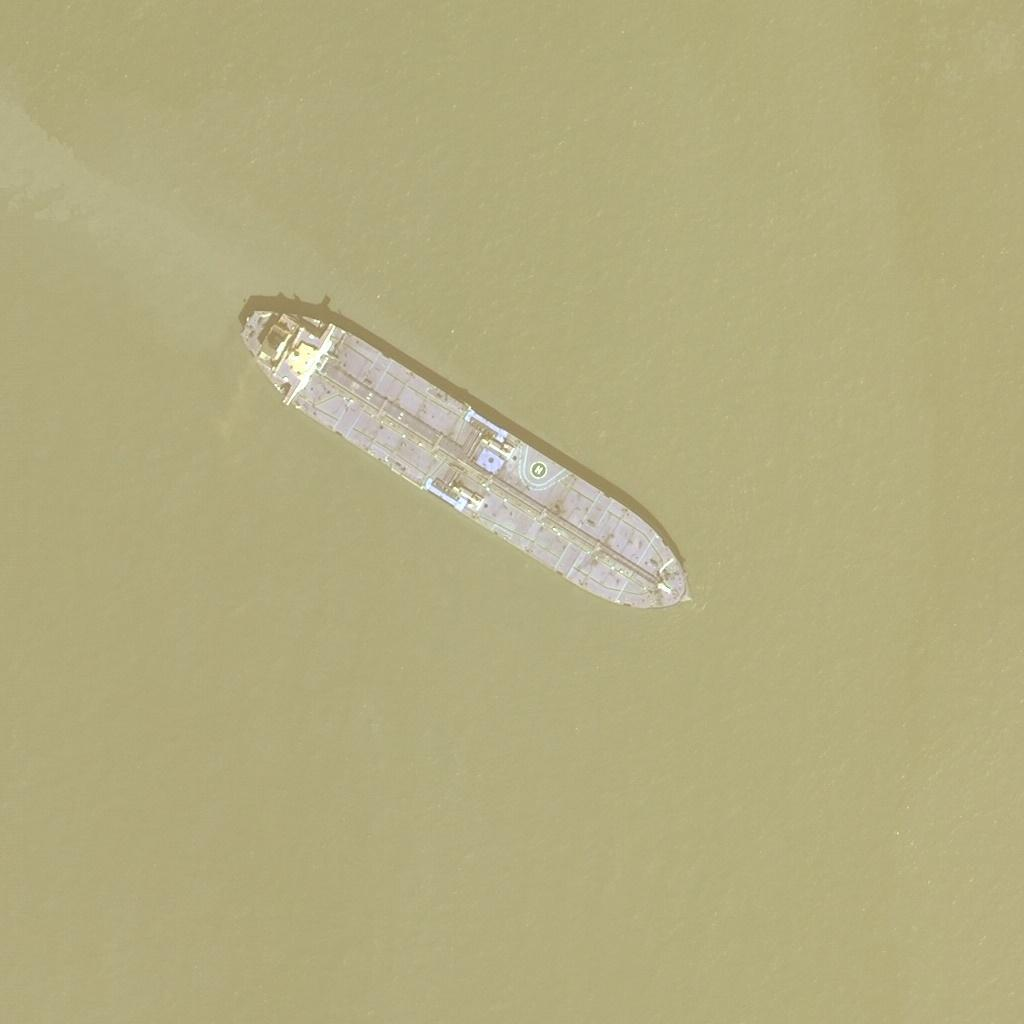ship: (240, 309, 702, 616)
